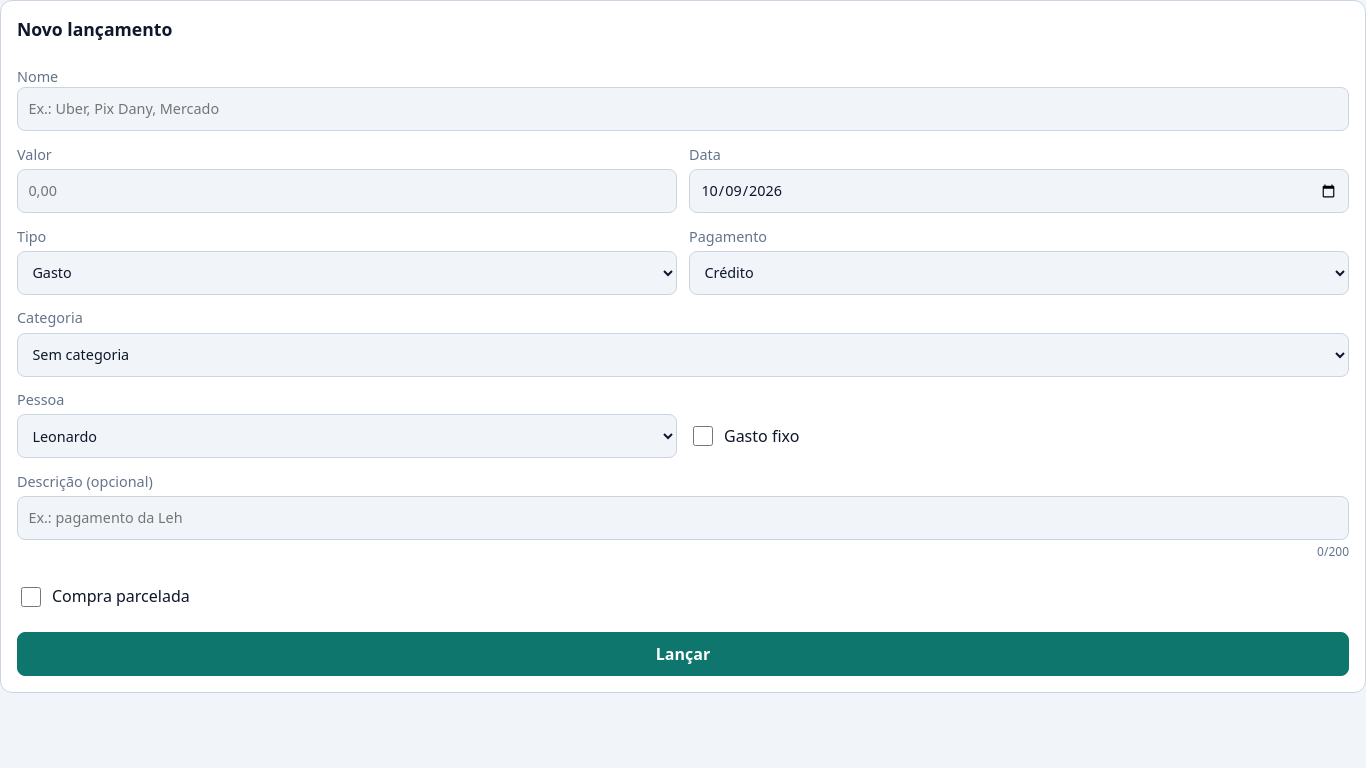
it: envio › mostra os erros que a API devolve
Step 1. Type "Uber" into the field labelled "Nome" → coordinates (683, 109), box [17, 87, 1349, 131]
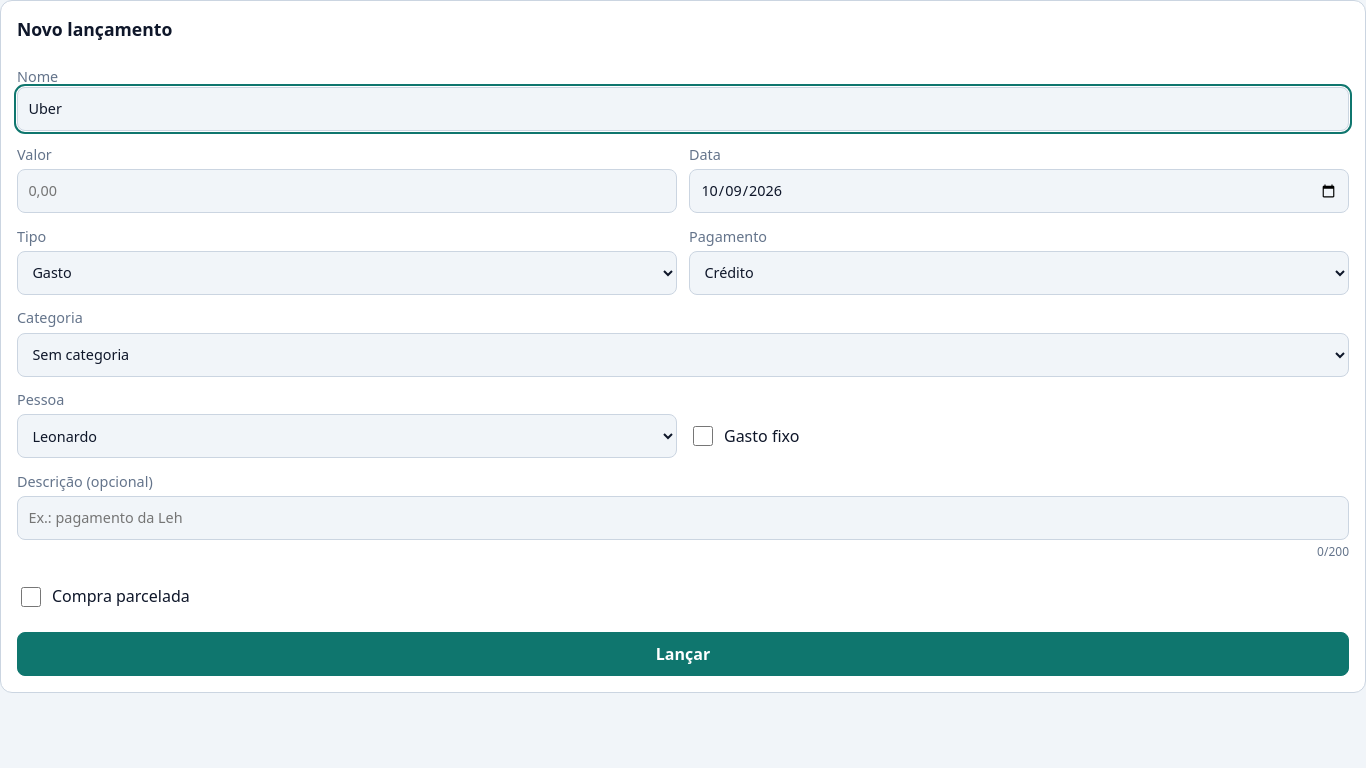
Step 2. Type "10" into the field labelled "Valor" → coordinates (347, 191), box [17, 169, 677, 213]
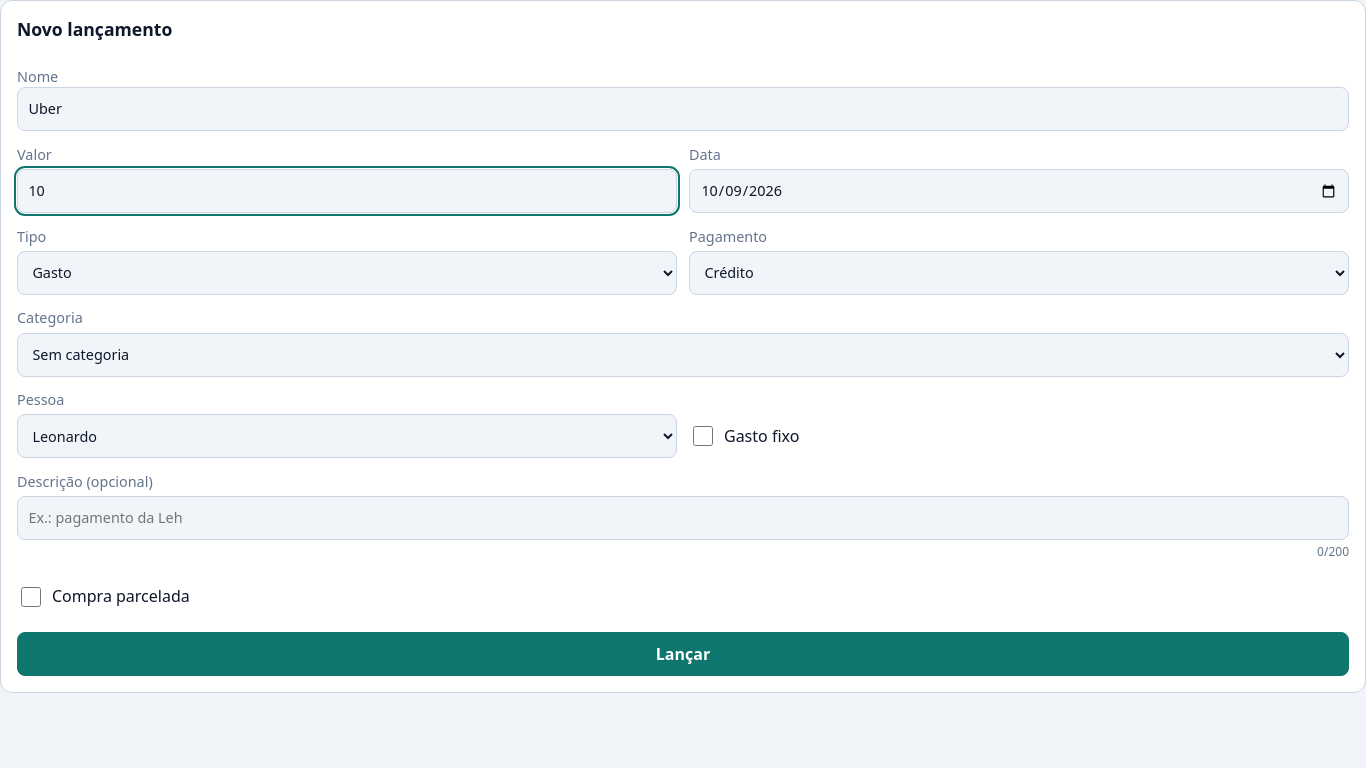
Step 3. Click the button "Lançar" → coordinates (683, 654), box [17, 632, 1349, 676]
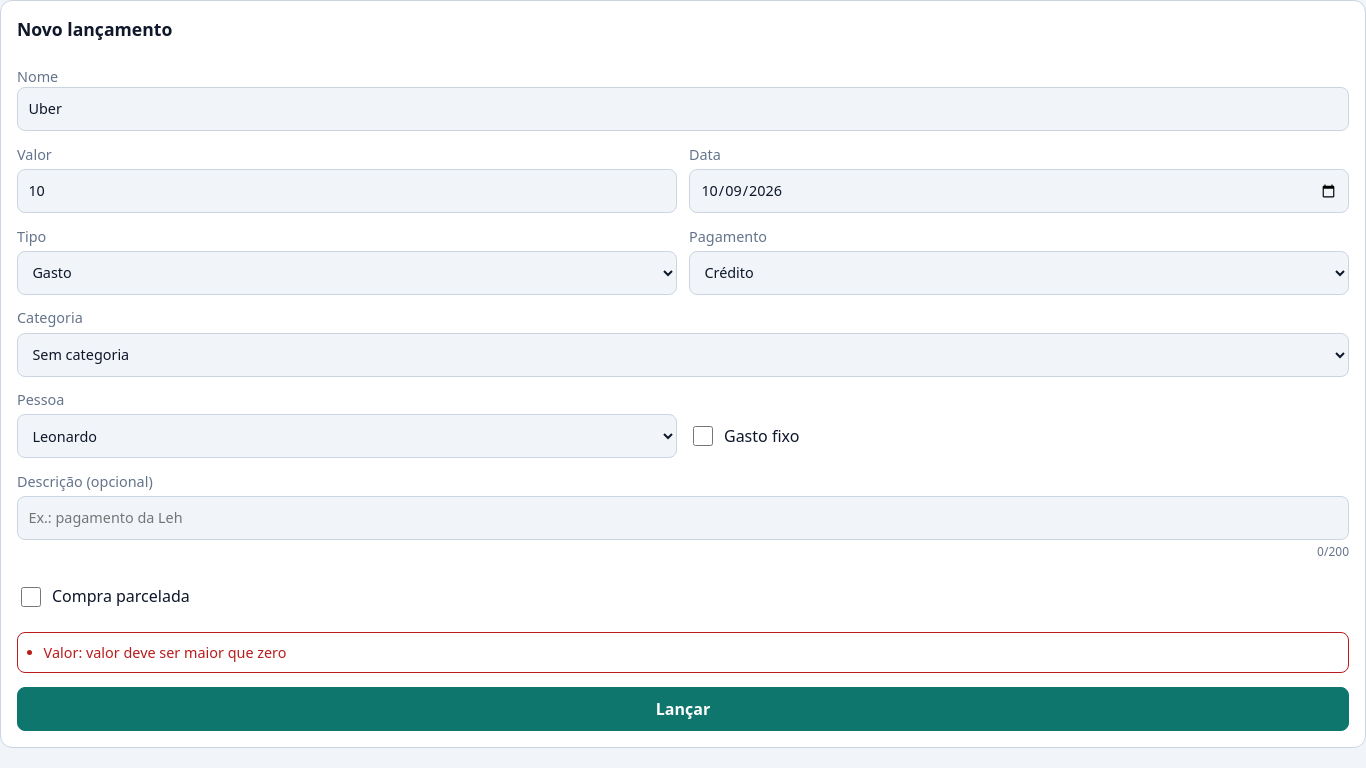
Check: the message reads "Valor: valor deve ser maior que zero", box [44, 643, 286, 662]
